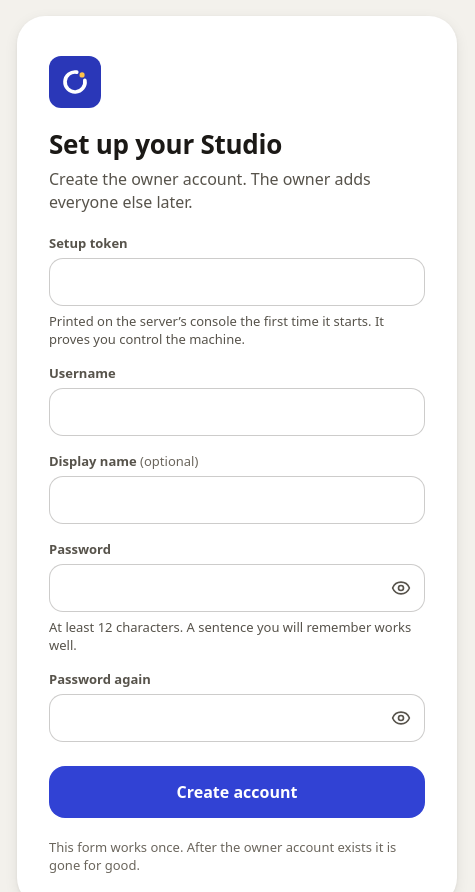
it: first-run setup › puts a wrong setup token and a weak password next to the field they concern
Type "wrong" into the field labelled "Setup token" at x=237, y=282, box left=49, top=258, right=425, bottom=306
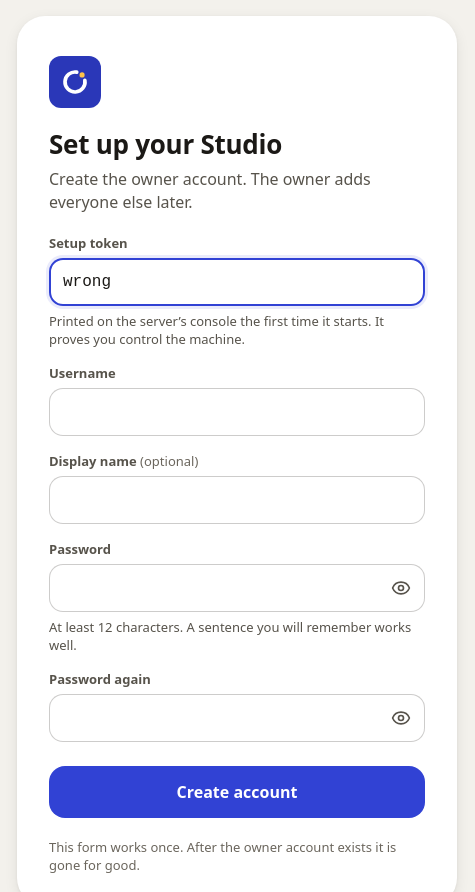
Type "owner" into the field labelled "Username" at x=237, y=412, box left=49, top=388, right=425, bottom=436
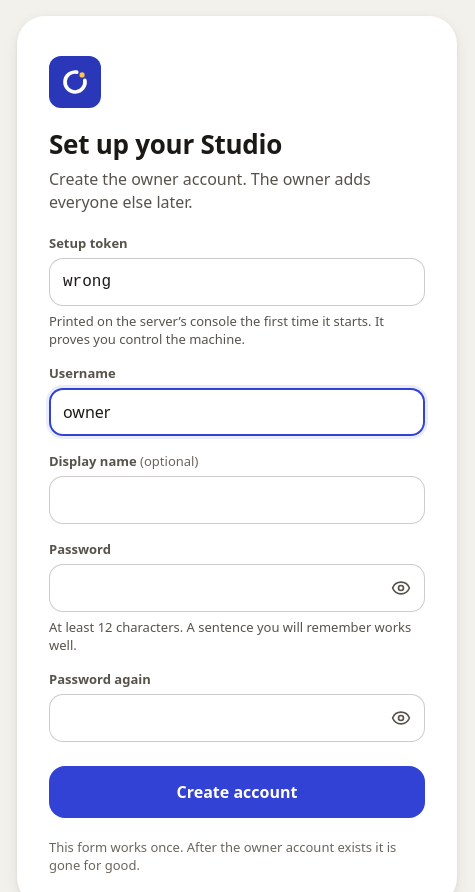
Type "a sentence I will remember" into the password field labelled "Password" at x=214, y=588, box left=49, top=564, right=379, bottom=612
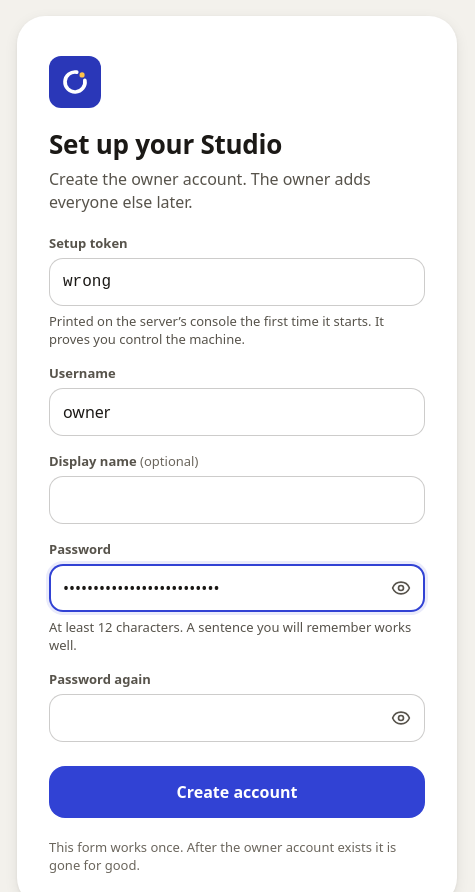
Type "a sentence I will remember" into the password field labelled "Password again" at x=214, y=718, box left=49, top=694, right=379, bottom=742
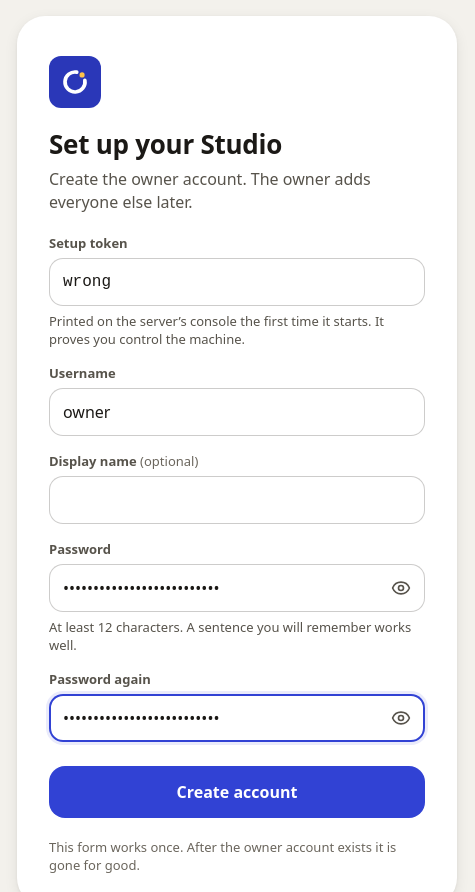
Click the button "Create account" at x=237, y=792, box left=49, top=766, right=425, bottom=818
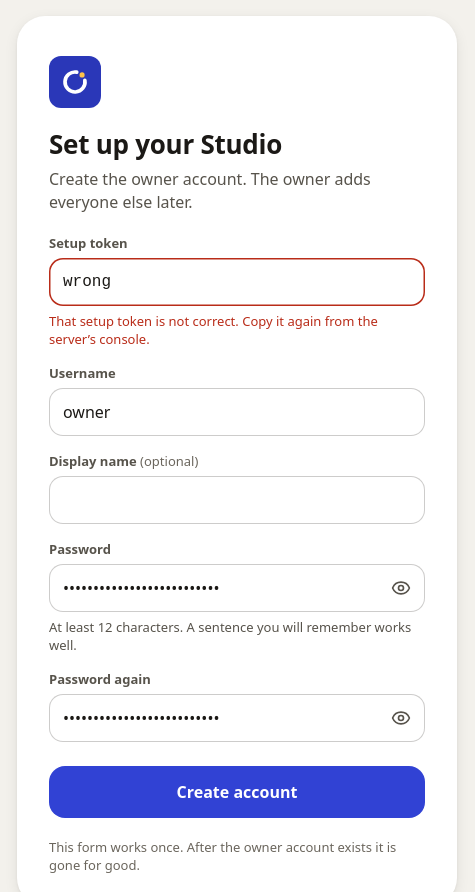
Result: the text "That setup token is not correct. Copy it again from the server’s console." is shown at left=49, top=312, right=425, bottom=348
Click the button "Create account" at x=237, y=792, box left=49, top=766, right=425, bottom=818
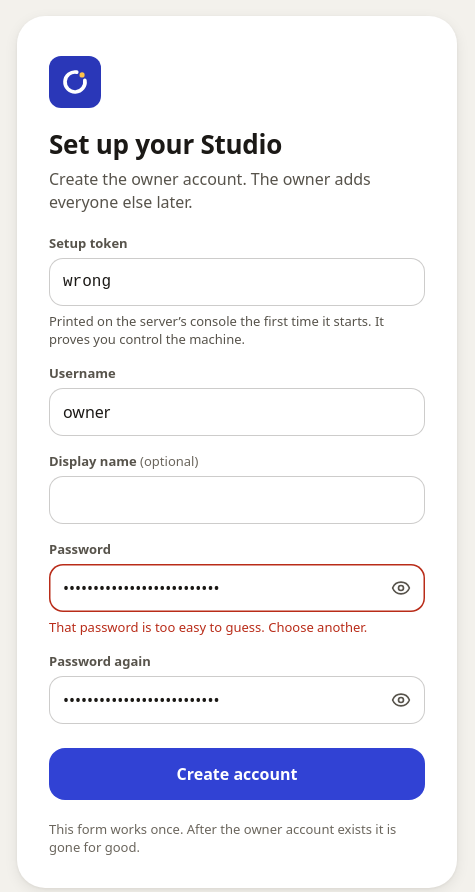
Result: the text "That password is too easy to guess. Choose another." is shown at left=49, top=618, right=367, bottom=636
